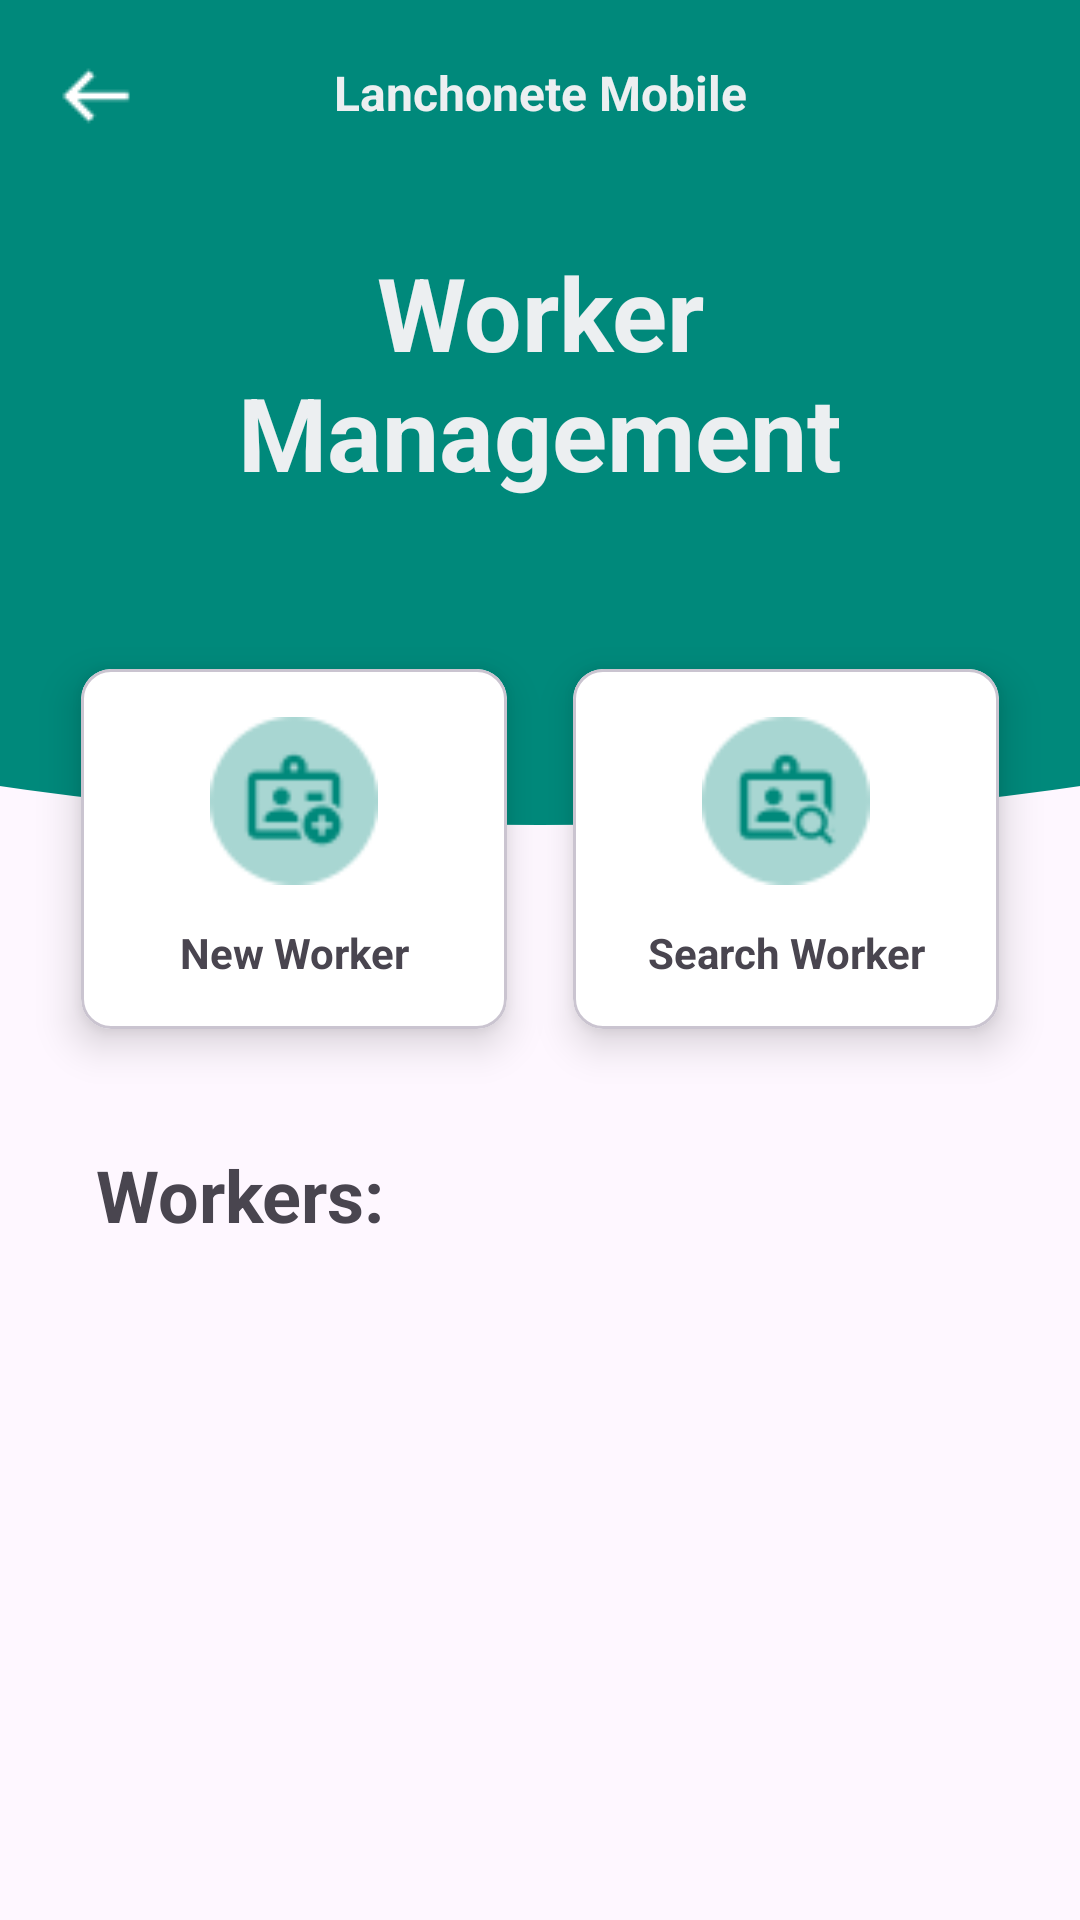

Named icons in this screenshot (1080x1920) and their centers, (x=x, y=y):
Back: (x=96, y=96)
